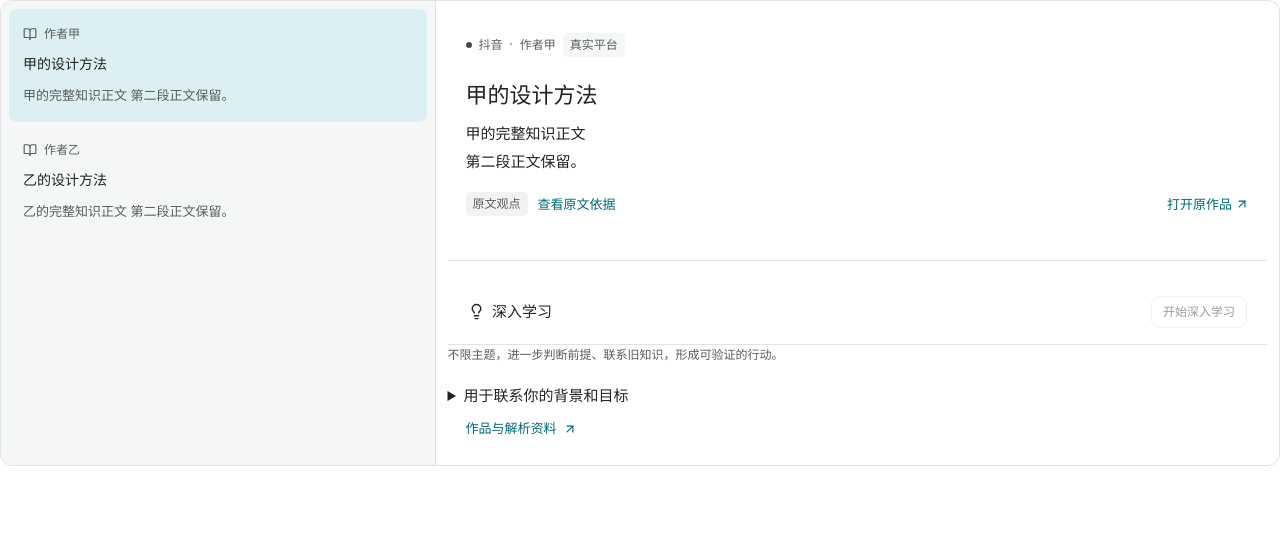
知识阅读区与导航 › 切换知识后显示对应完整正文、来源和作品链接
Expected: the heading "甲的设计方法" is shown, [466, 79, 598, 109]
Click the button "作者乙 乙的设计方法 乙的完整知识正文 第二段正文保留。": click(62, 150) [9, 125, 426, 238]
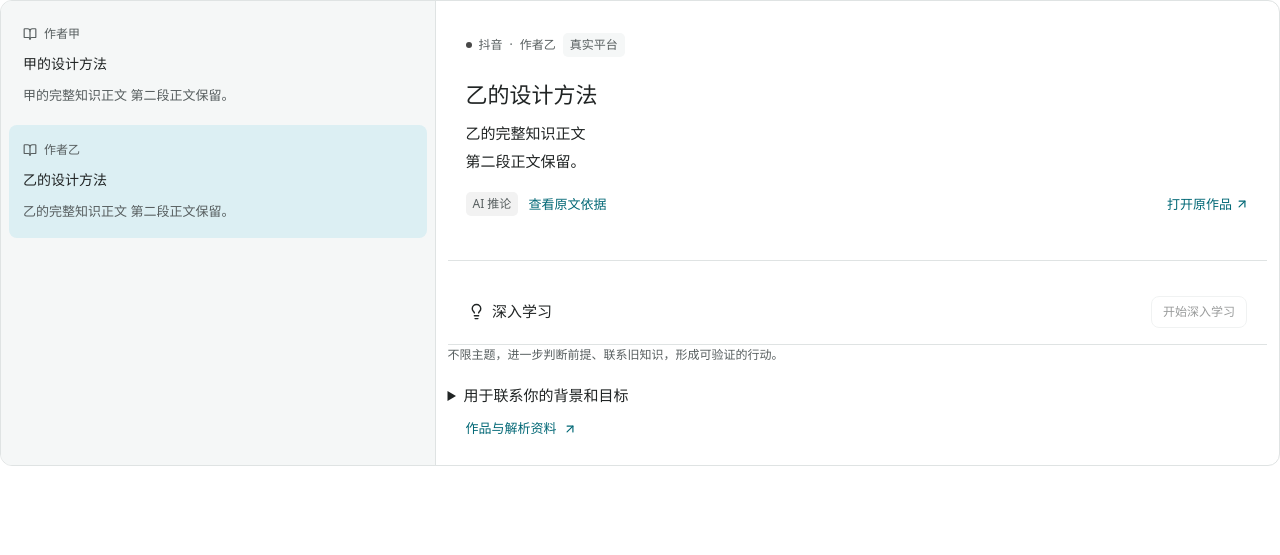
Now the heading "乙的设计方法" is shown, box [466, 79, 598, 109]
Now the text "乙的完整知识正文 第二段正文保留。" below "抖音" is shown, box [466, 123, 586, 171]
Now the text "AI 推论" is shown, box [466, 192, 518, 216]
Click the button "查看原文依据": click(567, 204) [528, 190, 606, 219]
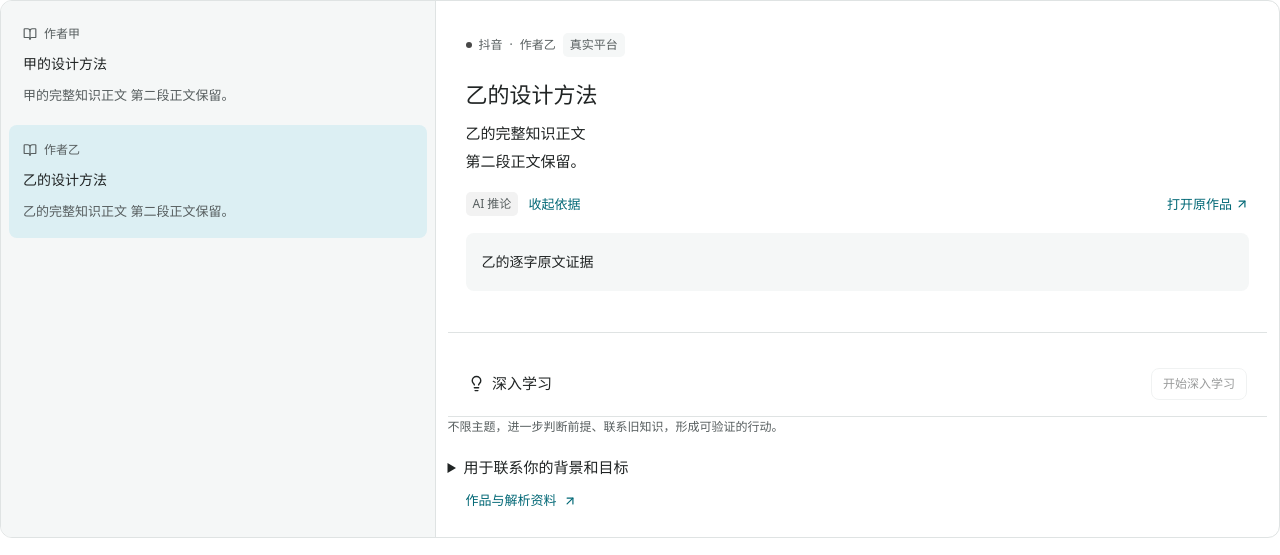
Now the text "乙的逐字原文证据" is shown, box [466, 233, 1249, 291]
